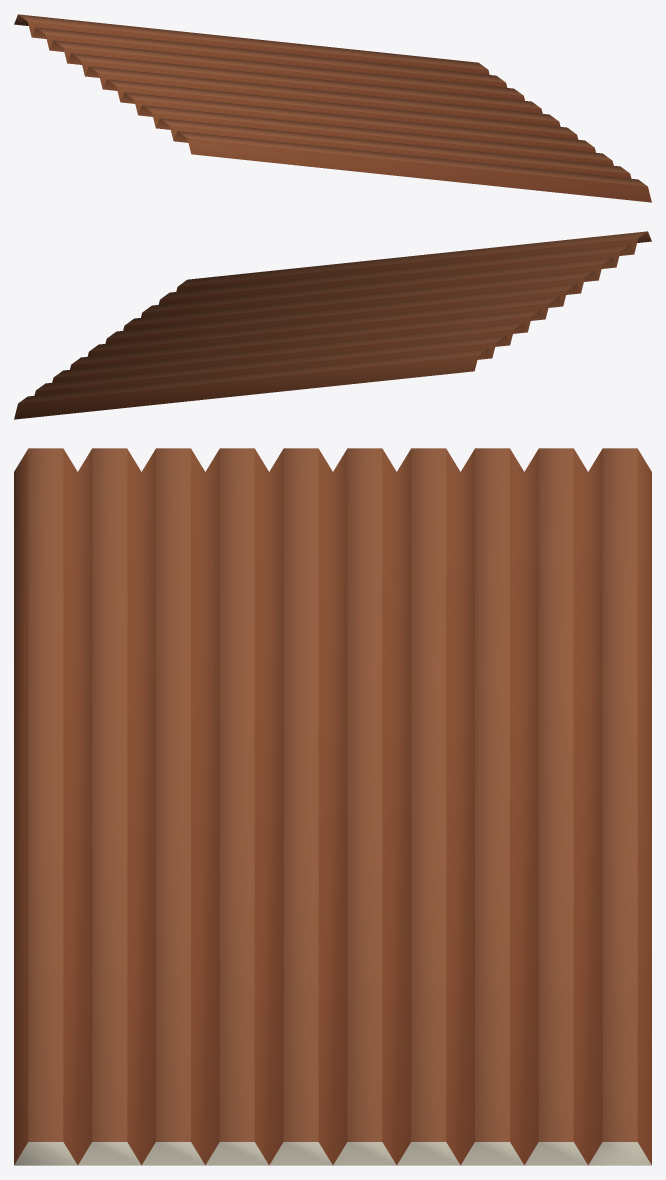
Rendered from SM_Building_TileRoof_06.fbx.
3 renders of one model, top to bottom at view 1: azimuth 30°, elevation 25°; view 2: azimuth 150°, elevation 25°; view 3: azimuth 270°, elevation 25°, orthographic. The views are drawn at different scales.
Parts seen in each view (by area): view 1: SM_Building_TileRoof_06; view 2: SM_Building_TileRoof_06; view 3: SM_Building_TileRoof_06.
Part boxes in pixels (x1=…): SM_Building_TileRoof_06: x1=14, y1=14, x2=651, y2=202; SM_Building_TileRoof_06: x1=14, y1=231, x2=651, y2=419; SM_Building_TileRoof_06: x1=14, y1=448, x2=651, y2=1165.
Size of the model in its own units: 3 by 1.08 by 2.
